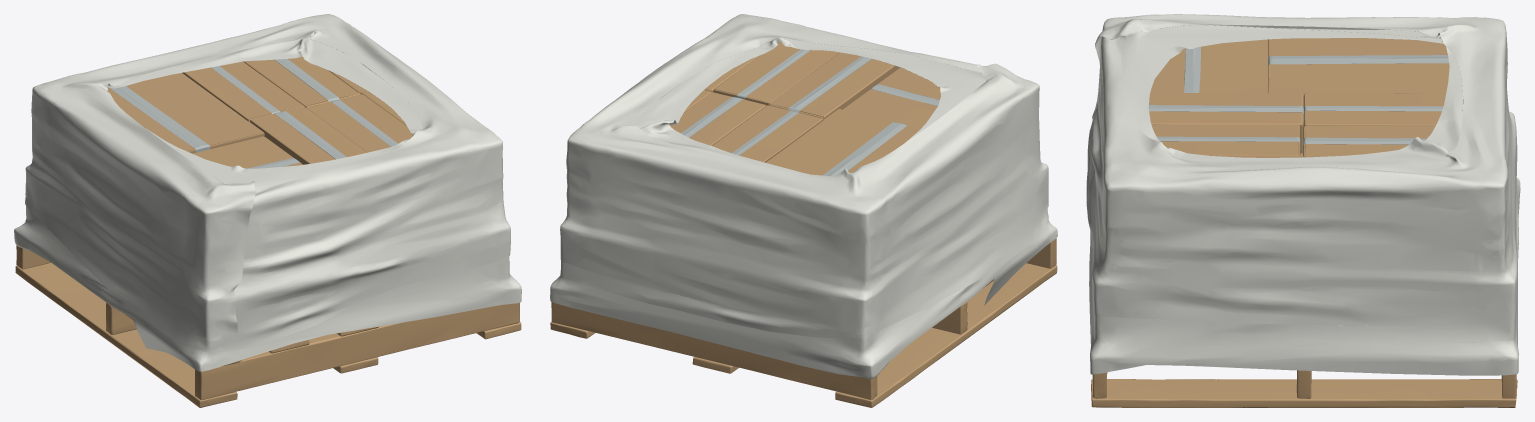
File: pallet_assembly_transparent_a02.glb
3 views of the same model, side by side, from view 1: azimuth 30°, elevation 25°; view 2: azimuth 150°, elevation 25°; view 3: azimuth 270°, elevation 25° (orthographic). The views are drawn at different scales.
Size of the model in its own units: 0.9069 by 0.5387 by 0.9166.
